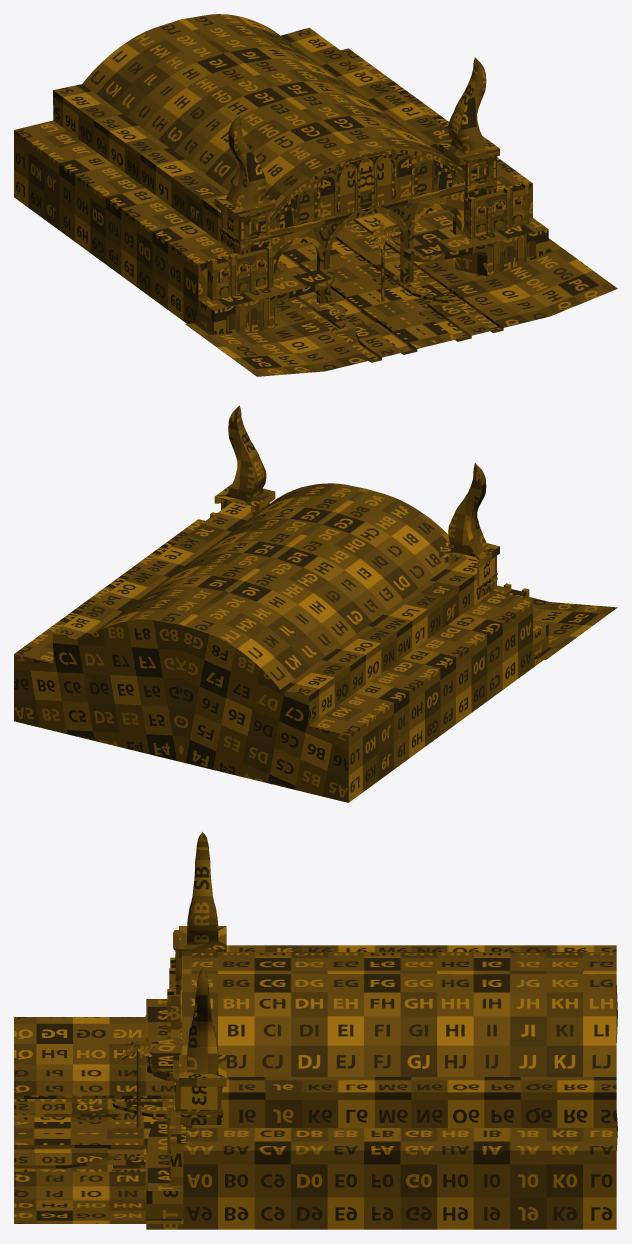
File: 2K_Id_Map_try2.fbx
The picture shows the model from 3 angles, top to bottom: view 1: azimuth 30°, elevation 25°; view 2: azimuth 150°, elevation 25°; view 3: azimuth 270°, elevation 25°; orthographic projection. The views are drawn at different scales.
Parts seen in each view (by area): view 1: InsideFaces, OutsideFaces, polySurface3, pCube61, pCube28, pCube27, pCube16, pCube13, pPlane3, pCube14, pPlane4, pCube25 (+5 smaller); view 2: InsideFaces, polySurface3, pCube27, pCube28, OutsideFaces; view 3: InsideFaces, polySurface3, OutsideFaces, pCube28, pCube61, pCube27, pCube16.
Boxes of the visible parts, x1,y1,x2,y2 form: InsideFaces: (14,14,617,376); OutsideFaces: (198,154,548,334); polySurface3: (214,57,499,220); pCube61: (206,183,524,300); pCube28: (221,151,498,254); pCube27: (269,145,464,223); pCube16: (220,179,497,248); pCube13: (273,203,461,303); pPlane3: (340,158,391,214); pCube14: (324,207,408,301); pPlane4: (320,158,411,218); pCube25: (337,155,394,212); InsideFaces: (14,486,617,802); polySurface3: (214,405,499,572); pCube27: (271,483,449,543); pCube28: (219,488,496,599); OutsideFaces: (533,620,548,667); InsideFaces: (14,945,617,1229); polySurface3: (179,832,226,1092); OutsideFaces: (146,999,183,1229); pCube28: (173,930,221,1124); pCube61: (171,964,185,1185); pCube27: (182,951,191,1054); pCube16: (175,967,222,1117).
Bounding box in the file's own units: 32.79 × 17.57 × 40.41.
1 material, 1 textured.
